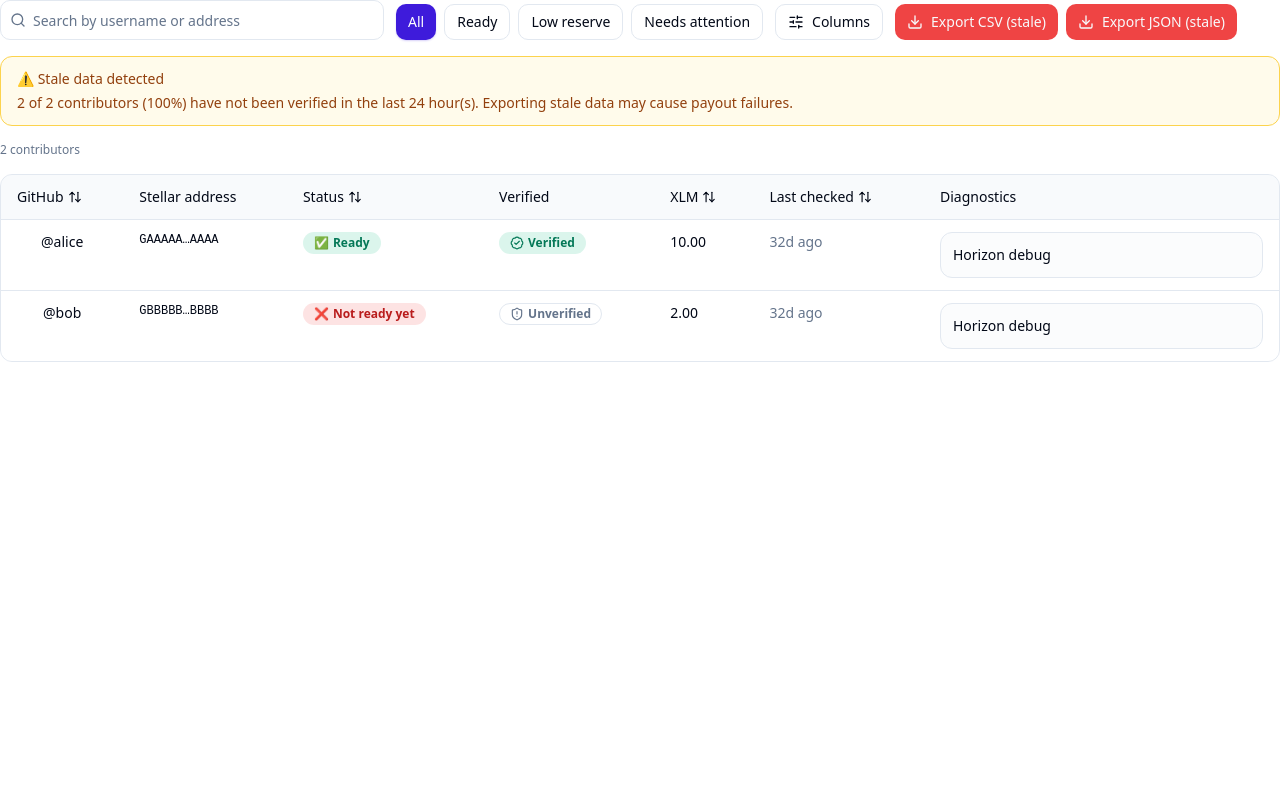
ContributorTable › export confirmation dialog › names the row count and the PII in the confirmation
This screenshot has width=1280, height=800.
Click the button "Export CSV (stale)" at {"x": 976, "y": 22}, box [895,4,1058,40]
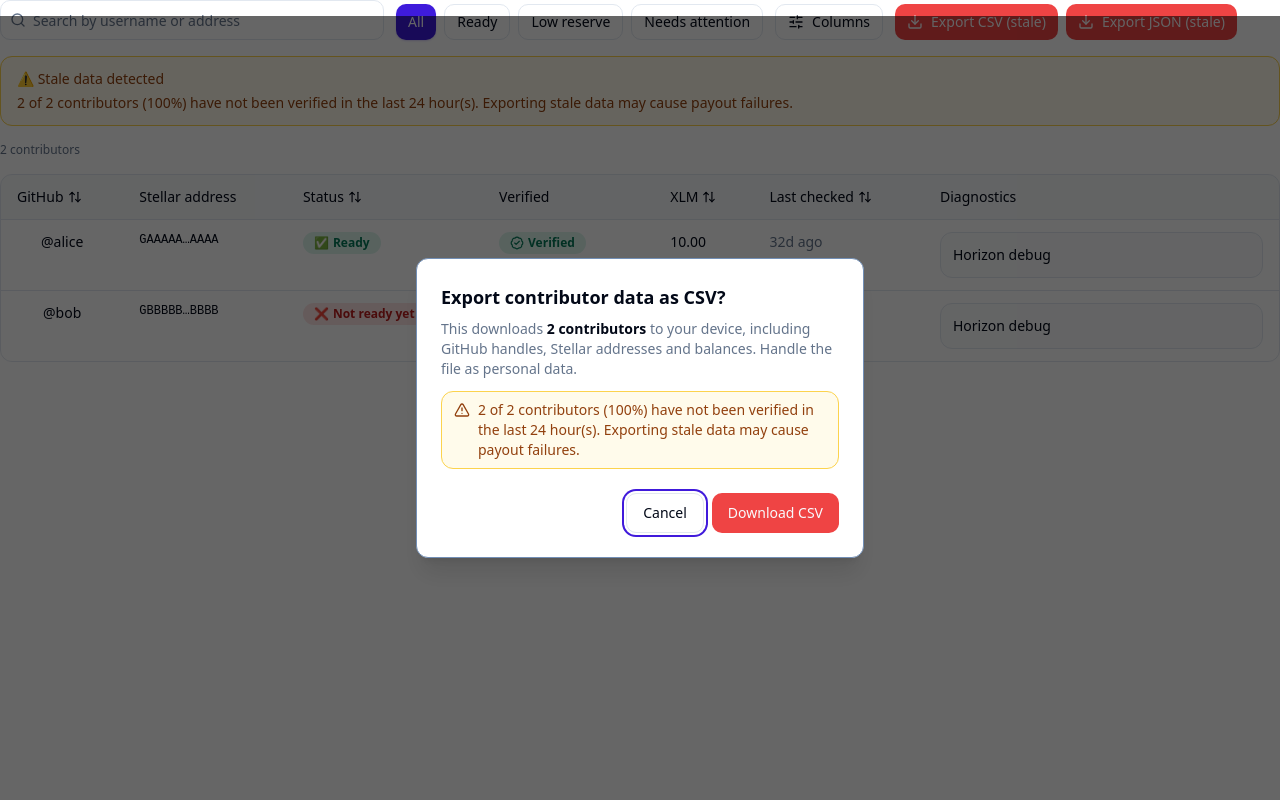
Expected: the dialog shows "2 contributors", [478,400,814,459]
Expected: the dialog shows "personal data", [441,319,832,378]
